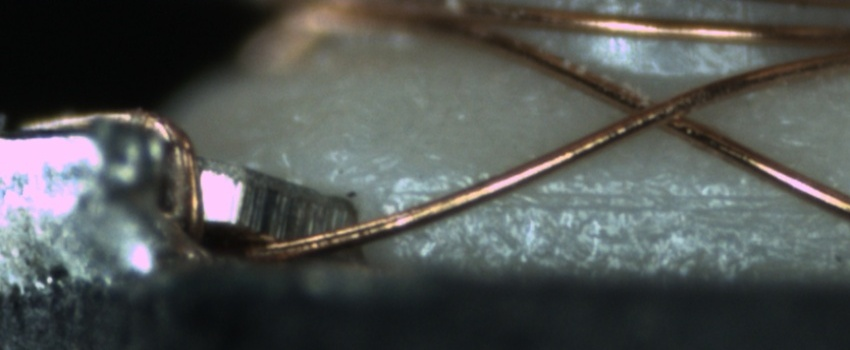CL: (610, 84, 707, 138)
DL: (405, 166, 850, 222)
TE: (17, 107, 212, 256)
